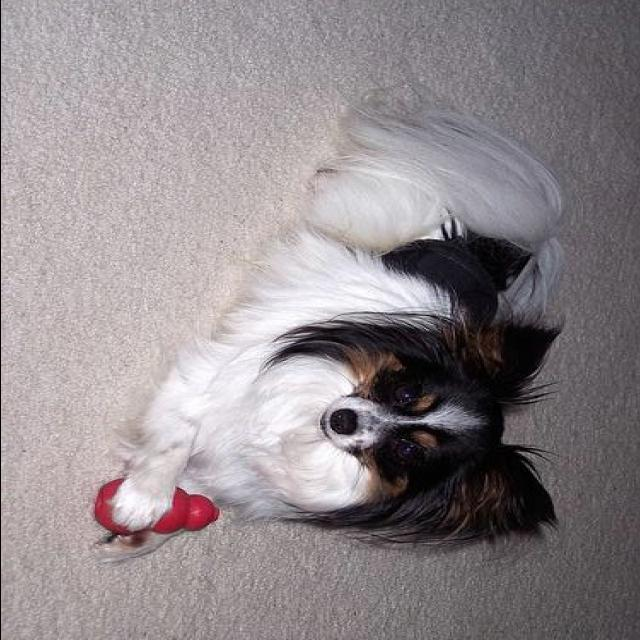papillon: (107, 104, 568, 556)
